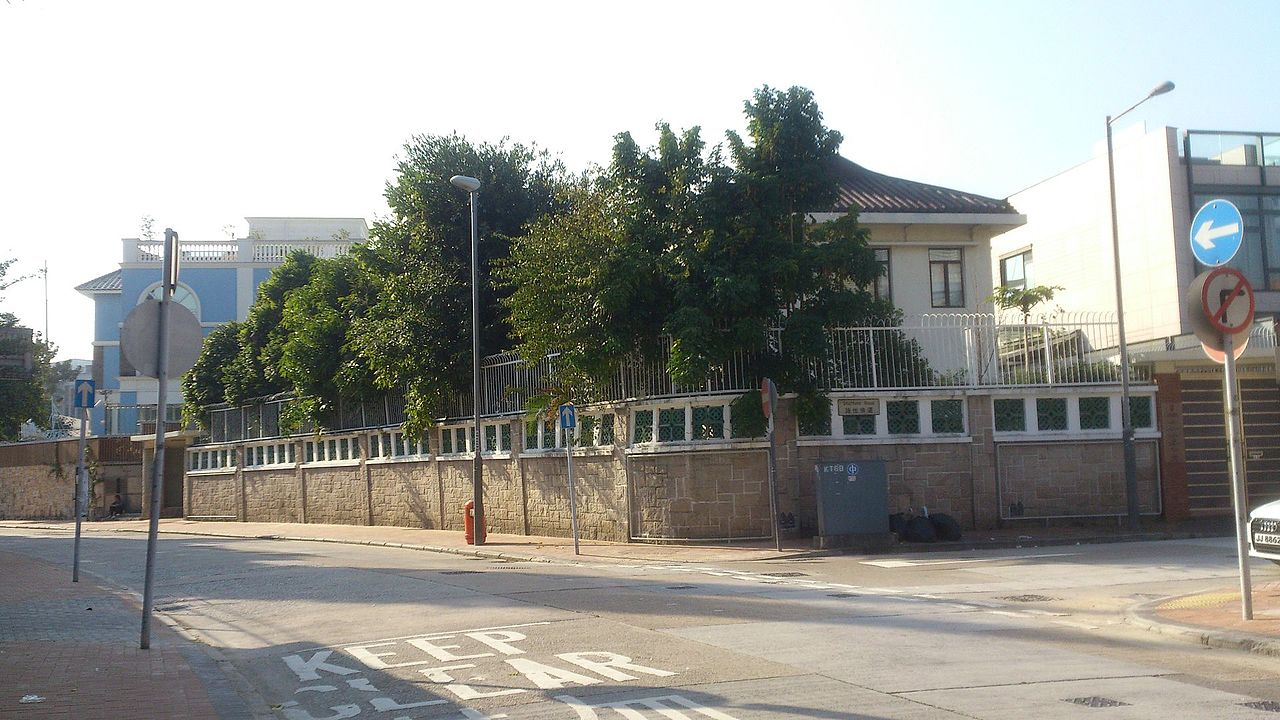No Enter: (762, 380, 770, 417)
No Turn Left: (1196, 266, 1261, 334)
One Way Traffic: (74, 378, 97, 409), (560, 402, 577, 431)
Turn Left: (1191, 195, 1247, 265)
